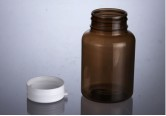medicinejar: (14, 5, 142, 109)
